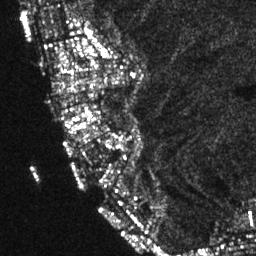ship: (27, 164, 41, 183)
